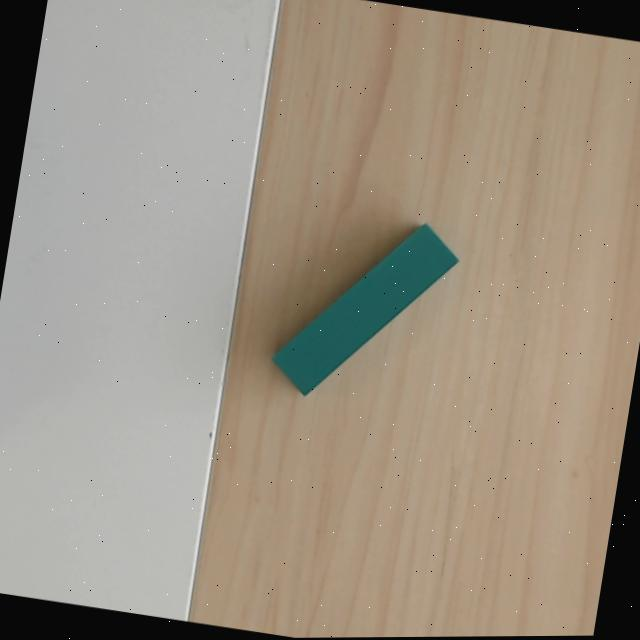Balok-Hijau-1002525: (269, 222, 458, 397)
